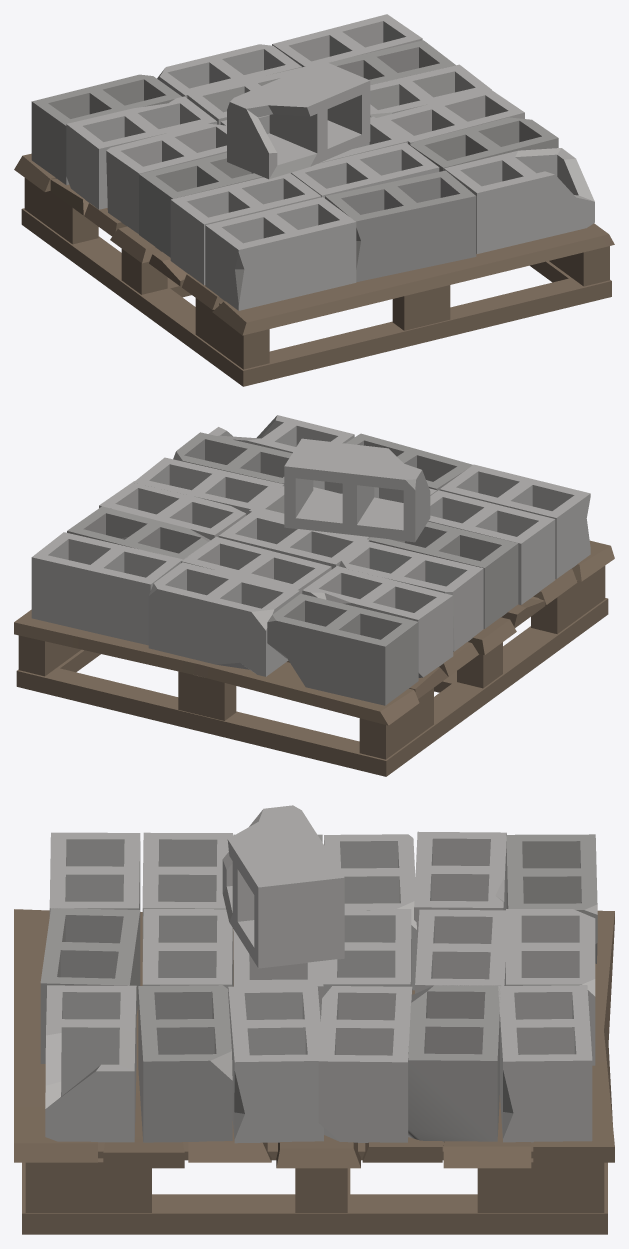
File: apoc_SM_Prop_Construction_Blocks_01.gltf
The picture shows the model from 3 angles, top to bottom: view 1: azimuth 30°, elevation 25°; view 2: azimuth 150°, elevation 25°; view 3: azimuth 270°, elevation 25°; orthographic projection. The views are drawn at different scales.
Parts seen in each view (by area): view 1: SM_Prop_Construction_Blocks_01; view 2: SM_Prop_Construction_Blocks_01; view 3: SM_Prop_Construction_Blocks_01.
Part boxes in pixels (x1=…): SM_Prop_Construction_Blocks_01: x1=14, y1=14, x2=614, y2=386; SM_Prop_Construction_Blocks_01: x1=14, y1=415, x2=614, y2=776; SM_Prop_Construction_Blocks_01: x1=14, y1=805, x2=614, y2=1234.
Size of the model in its own units: 1.42 by 0.6661 by 1.46.
1 material, 1 textured.
